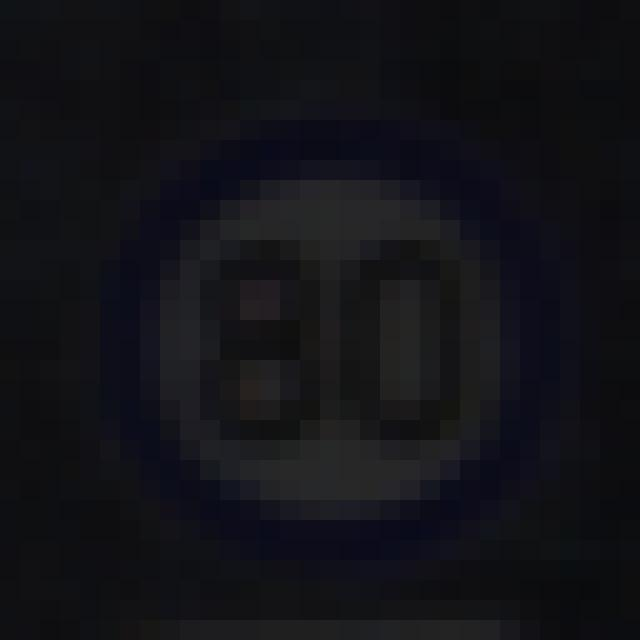SPEED-LIMIT-80: (100, 131, 536, 544)
